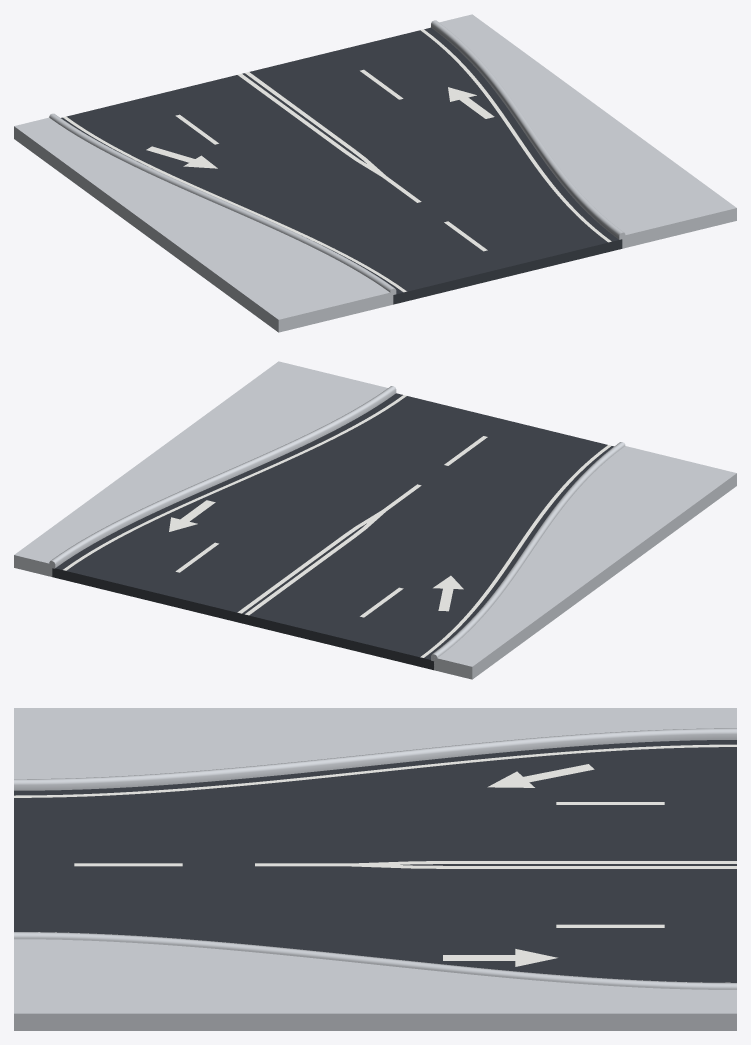
File: rua_transicao_avenida.glb
3 renders of one model, top to bottom at view 1: azimuth 30°, elevation 25°; view 2: azimuth 150°, elevation 25°; view 3: azimuth 270°, elevation 25°, orthographic. The views are drawn at different scales.
Visible parts, largest first — view 1: rua_transicao_avenida; view 2: rua_transicao_avenida; view 3: rua_transicao_avenida.
Boxes of the visible parts, x1,y1,x2,y2 form: rua_transicao_avenida: [14, 14, 736, 332]; rua_transicao_avenida: [14, 361, 736, 679]; rua_transicao_avenida: [14, 708, 736, 1030].
Bounding box in the file's own units: 15 × 0.5 × 15.
1 material, 1 textured.
